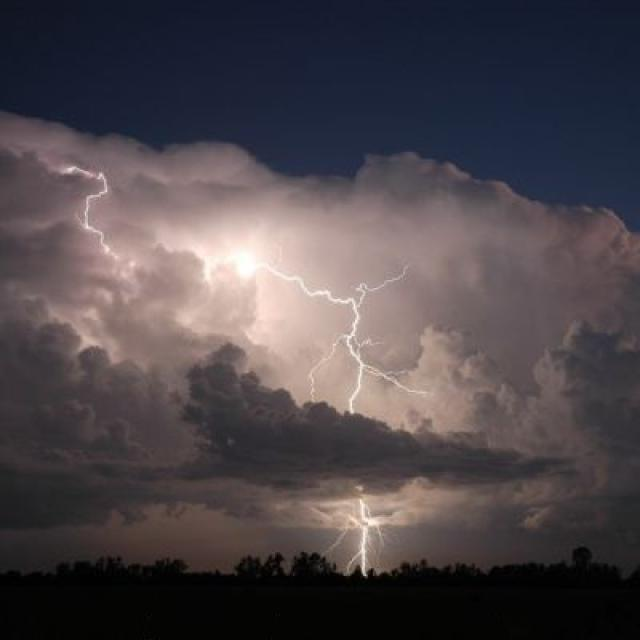cumulonimbus: (0, 73, 640, 539)
